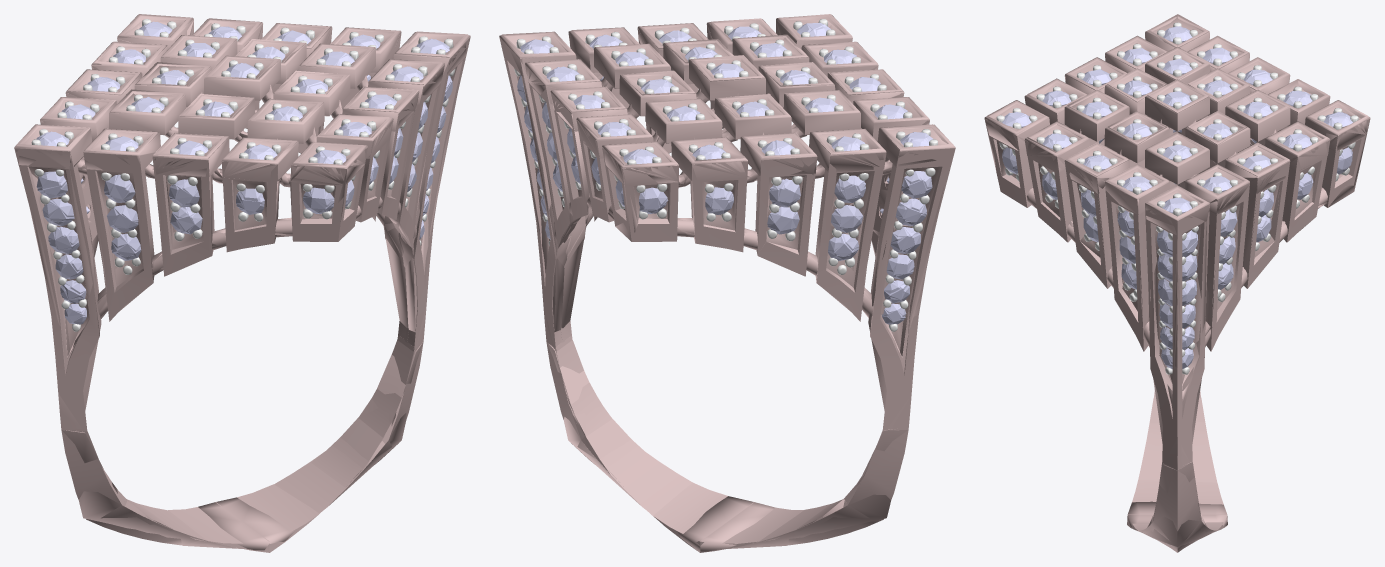
File: DLR-D000686411.glb
3 renders of one model, left to right at view 1: azimuth 30°, elevation 25°; view 2: azimuth 150°, elevation 25°; view 3: azimuth 270°, elevation 25°, orthographic. The views are drawn at different scales.
Visible parts, largest first — view 1: highPolyMesh, lowPolyMesh; view 2: highPolyMesh, lowPolyMesh; view 3: highPolyMesh, lowPolyMesh.
Part boxes in pixels (x1,y1,x2,y2): highPolyMesh: (14, 15, 470, 552); lowPolyMesh: (14, 14, 470, 550); highPolyMesh: (499, 14, 955, 552); lowPolyMesh: (501, 14, 953, 552); highPolyMesh: (984, 16, 1370, 552); lowPolyMesh: (984, 14, 1369, 546).
Size of the model in its own units: 0.0213 by 0.0214 by 0.0169.
